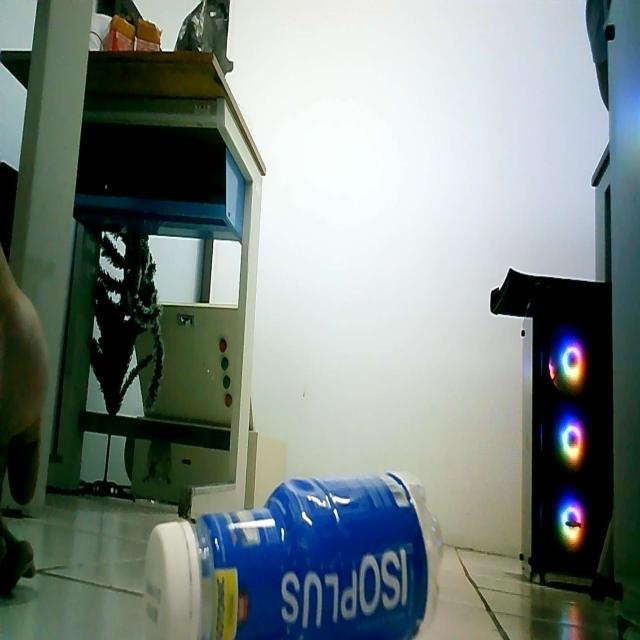botol: (130, 455, 454, 640)
